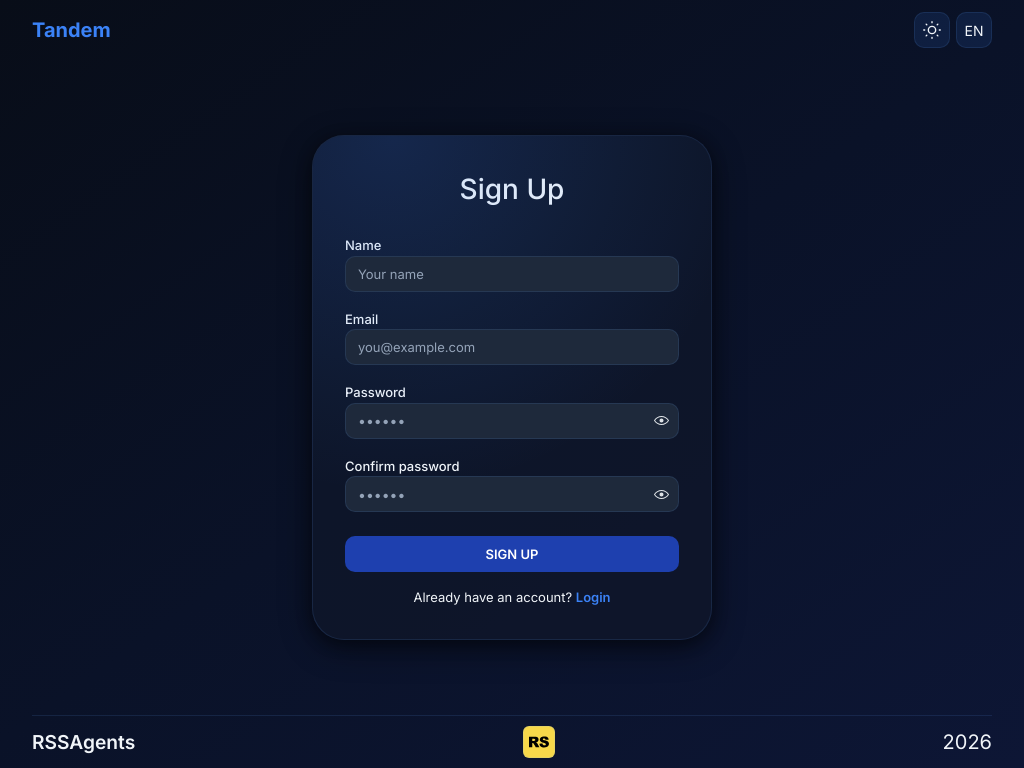
Register Page › should show validation error for empty name
Click the submit button at (512, 554), box left=345, top=536, right=679, bottom=572
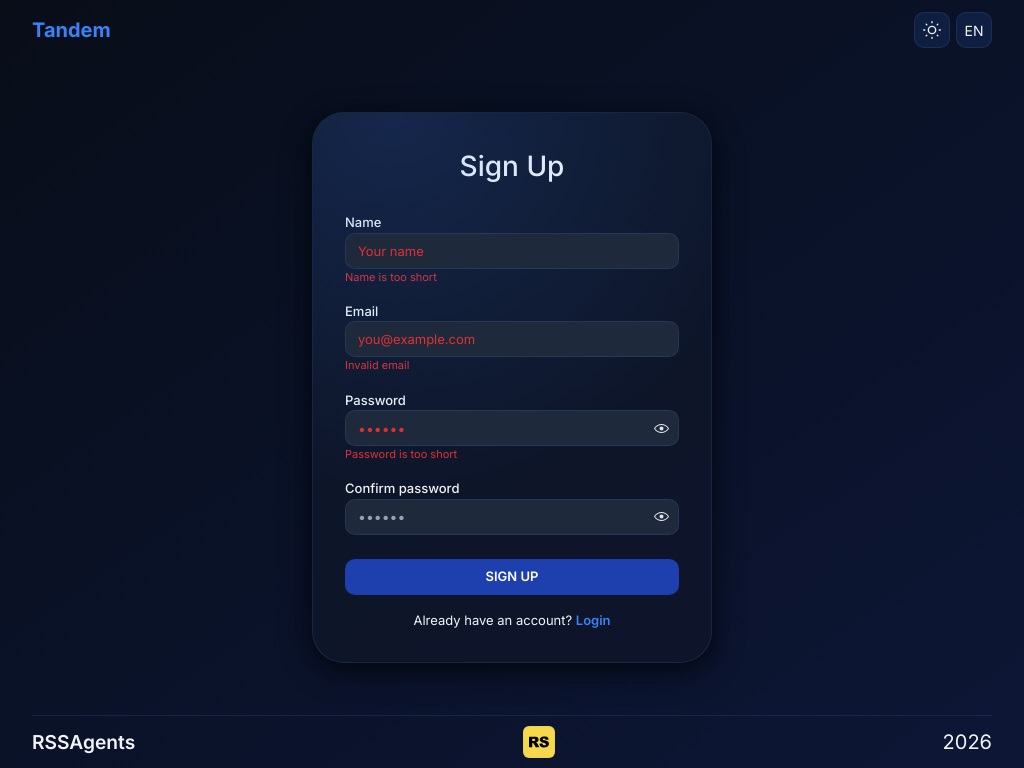
Check: the text "Name is too short" is shown, box left=345, top=270, right=437, bottom=284
